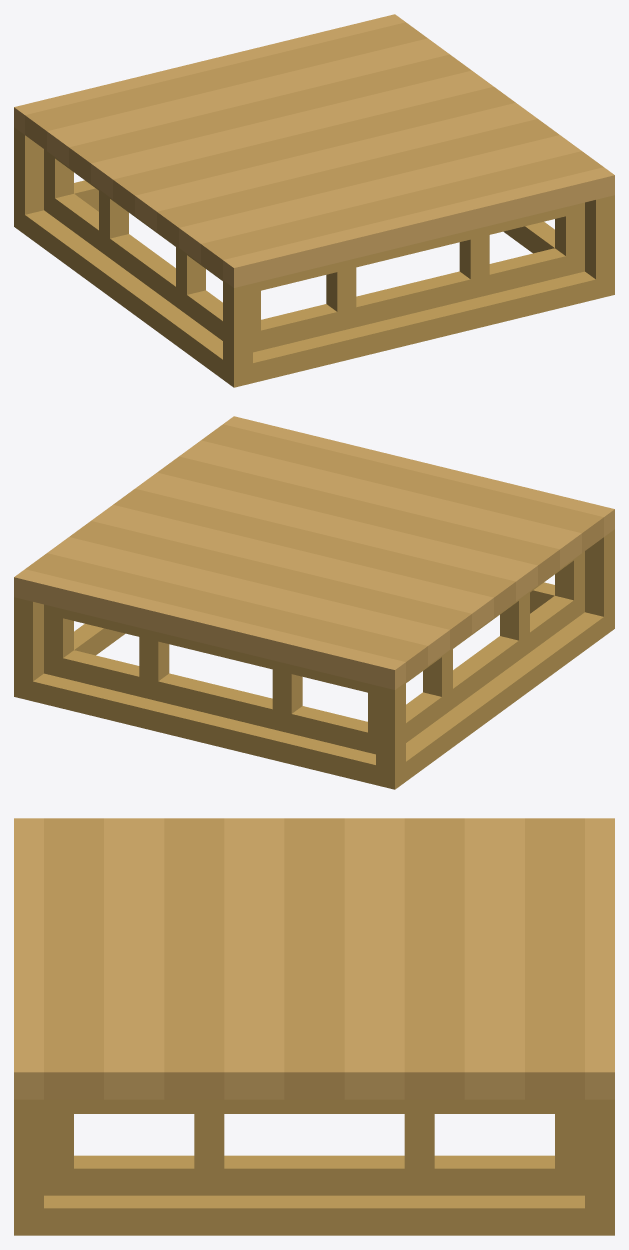
Rendered from Pallet.obj.
The picture shows the model from 3 angles, top to bottom: view 1: azimuth 30°, elevation 25°; view 2: azimuth 150°, elevation 25°; view 3: azimuth 270°, elevation 25°; orthographic projection. The views are drawn at different scales.
Visible parts, largest first — view 1: Pallet; view 2: Pallet; view 3: Pallet.
Part boxes in pixels (box(x1,y1,x2,y2)): Pallet: box(14, 14, 614, 387); Pallet: box(14, 416, 614, 789); Pallet: box(14, 818, 614, 1235).
Size of the model in its own units: 20 by 6 by 20.
1 material, 1 textured.
